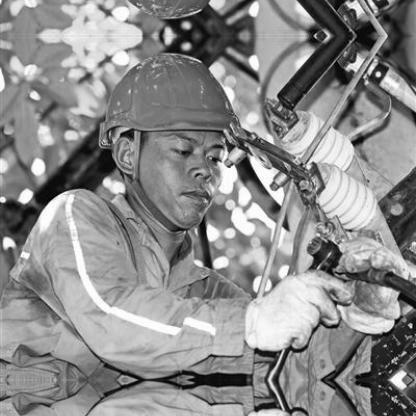helmet: (95, 45, 243, 231)
